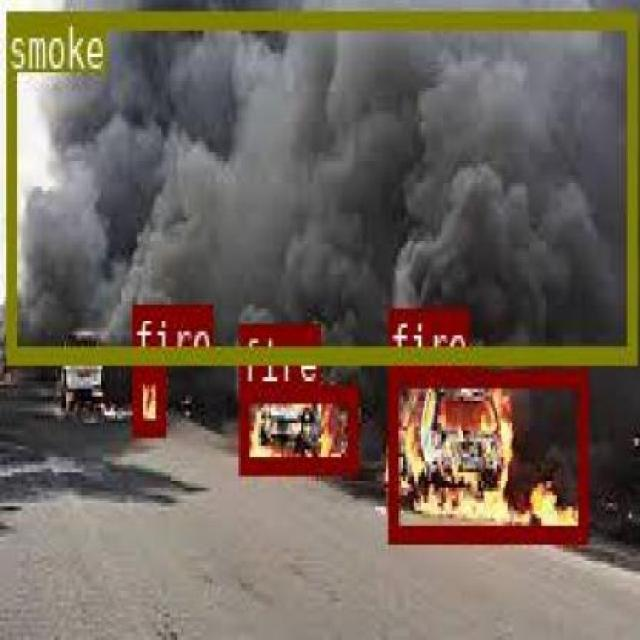Fire: (387, 368, 586, 540), (238, 381, 357, 470), (130, 363, 163, 434)
Smoke: (4, 8, 634, 360)
